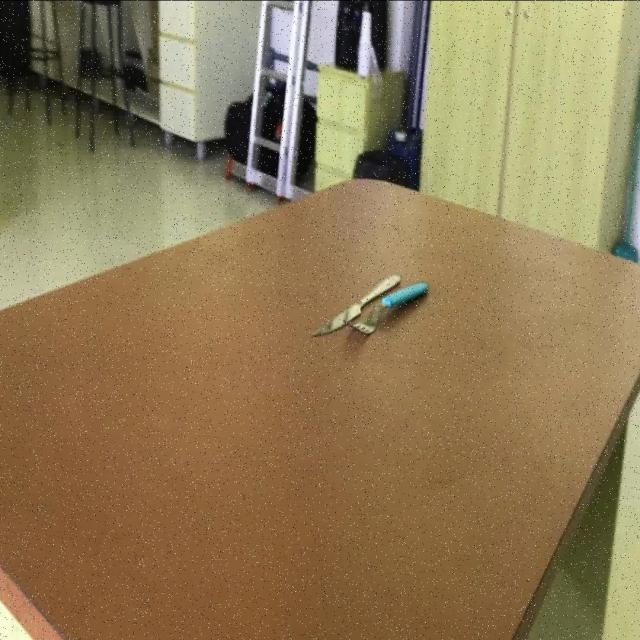Knife: (310, 274, 428, 342)
